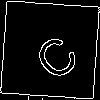C: (25, 25, 83, 84)
